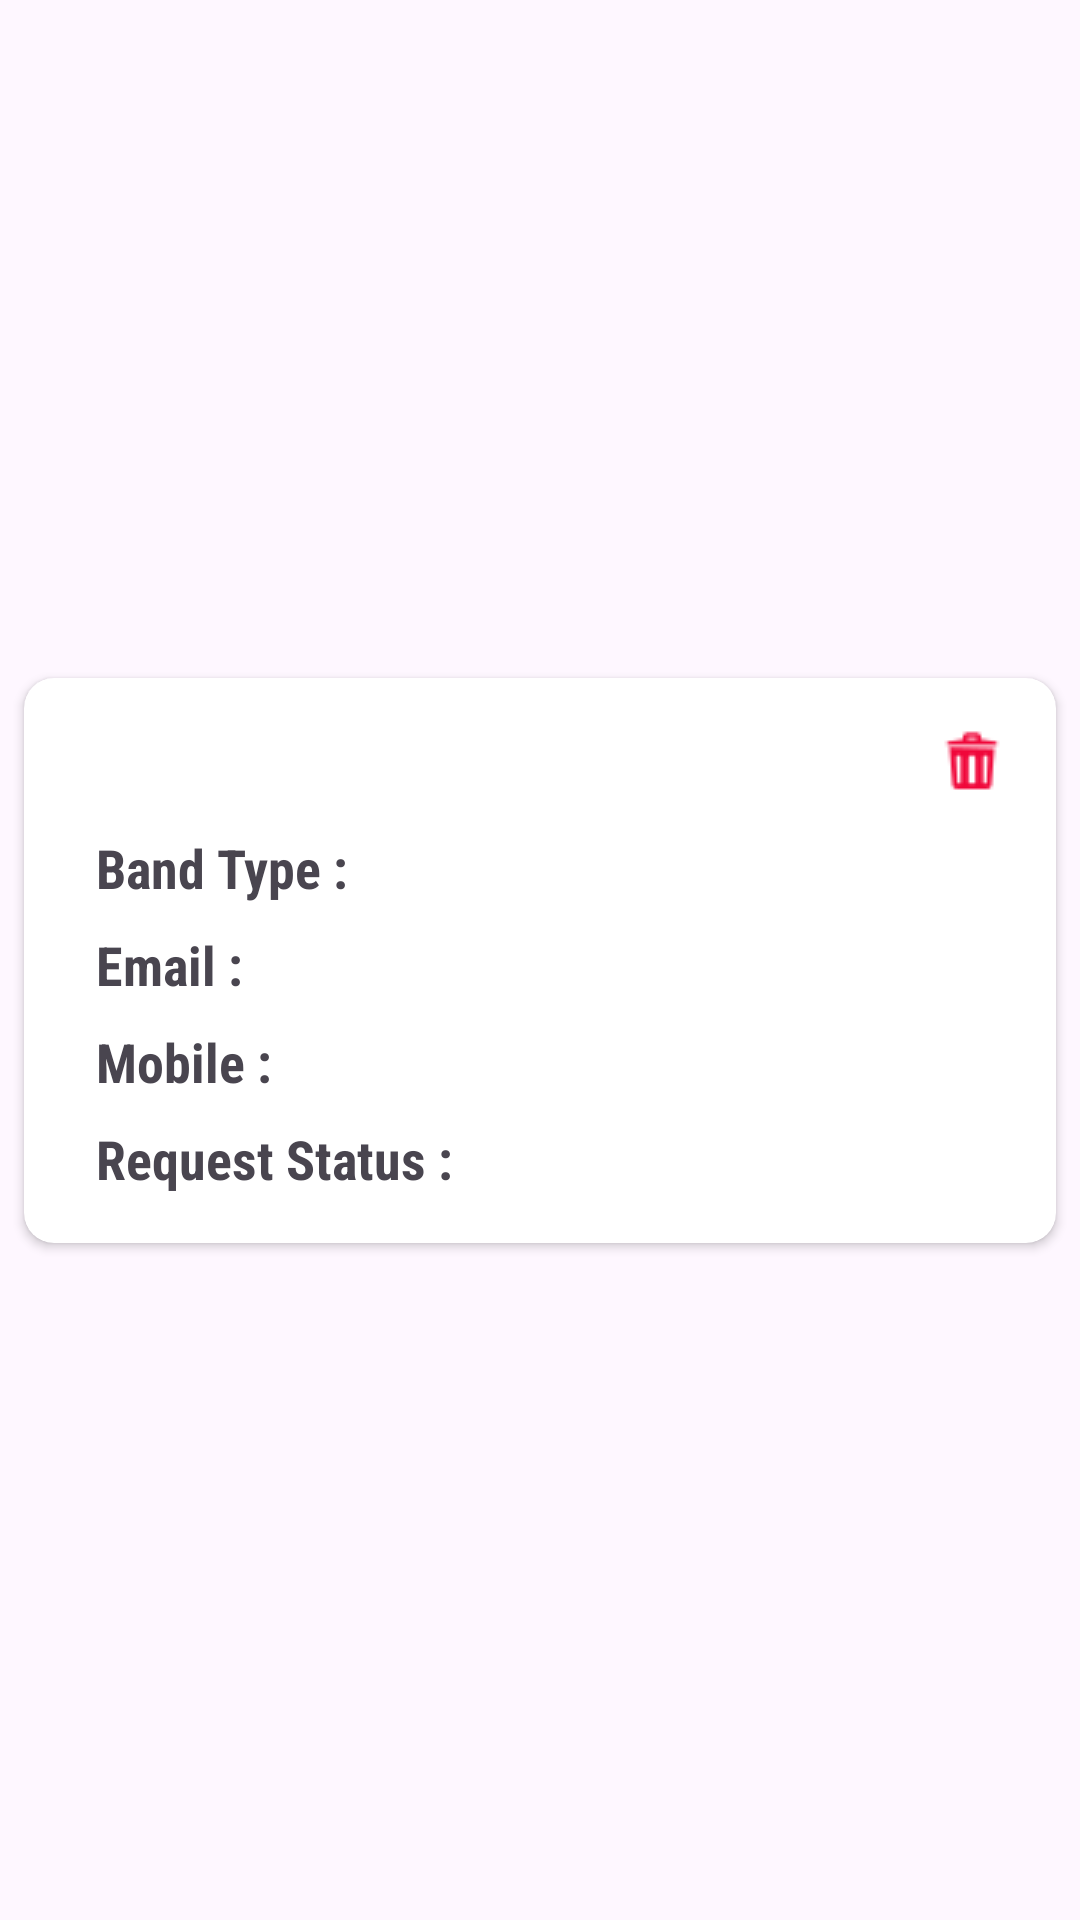

Icons on this 1080w x 1920h Android screen, each with the point to tap as (x=x, y=y):
trash: (x=972, y=760)
